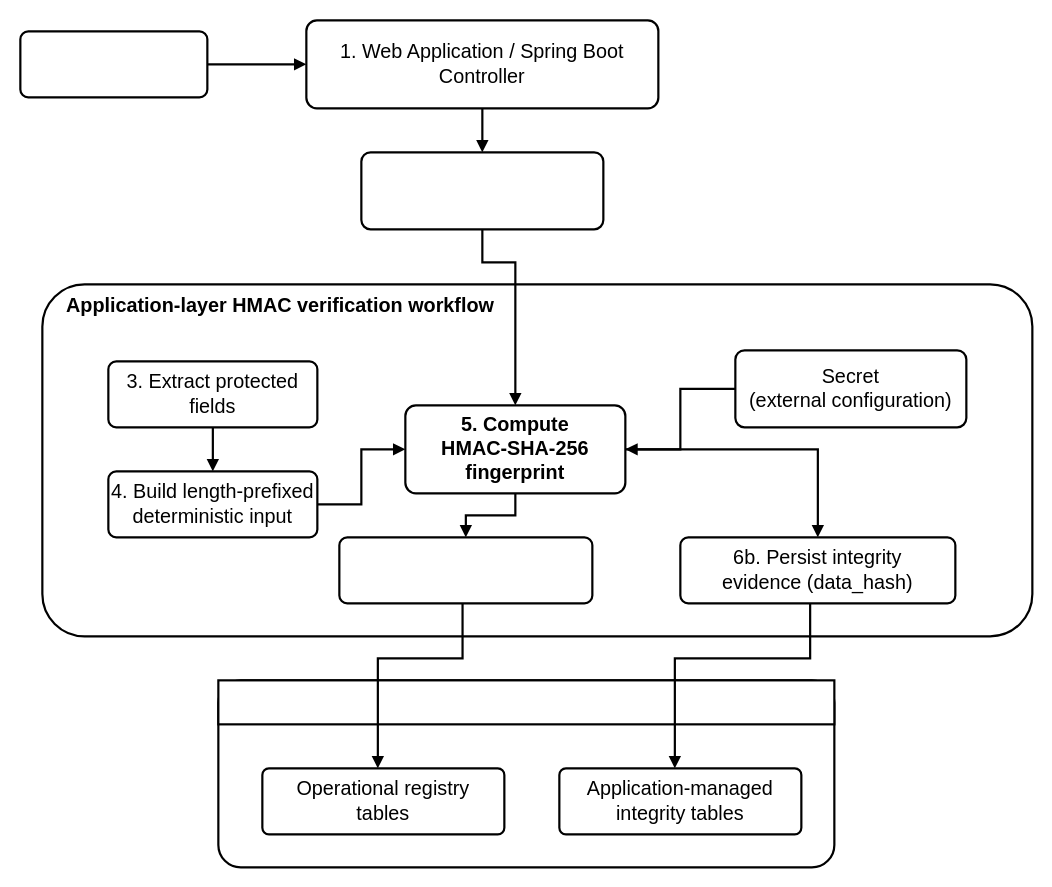
Image size: 1052x887. Some labels were removed from this diagram. The shapes that lost their labels are listed below. From the top down, each one's centre as x and y in pixels, then its label:
the point at 113,64: User / Admin
the point at 482,190: 2. Service Layer (FreqCrudService)
the point at 465,570: 6a. Persist registry update
the point at 526,702: MySQL Database
